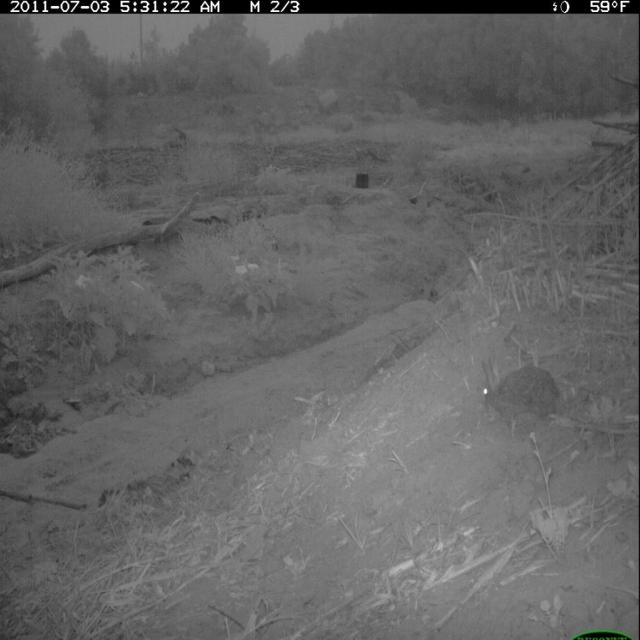rabbit: (479, 348, 567, 440)
